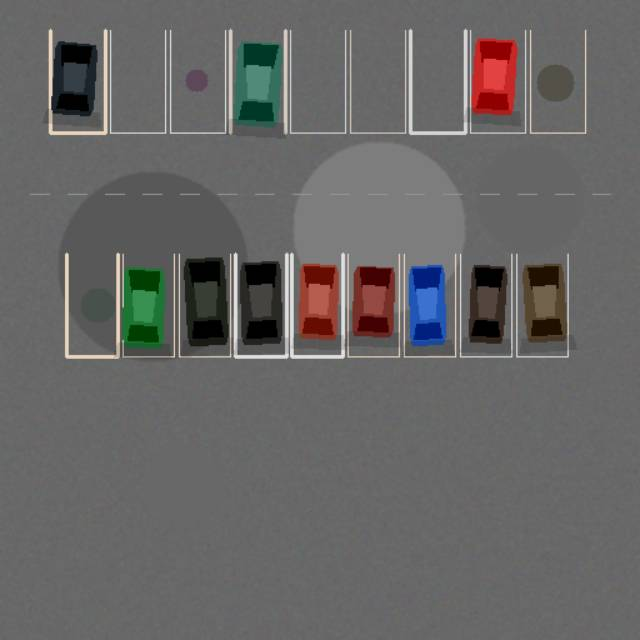space-empty: (110, 30, 165, 132), (170, 30, 225, 132), (290, 30, 345, 132), (350, 30, 405, 132), (410, 30, 465, 132), (530, 30, 585, 132), (66, 254, 118, 356)
space-occupied: (50, 30, 105, 132), (230, 30, 285, 132), (470, 30, 525, 132), (122, 254, 174, 356), (516, 254, 568, 356), (179, 254, 230, 356), (235, 254, 286, 356), (291, 254, 342, 356), (348, 254, 399, 356), (404, 254, 455, 356), (460, 254, 511, 356)
